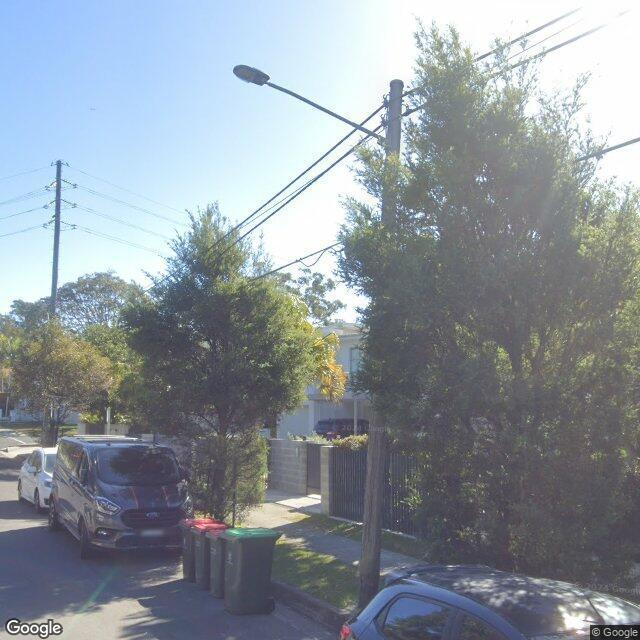HV-transmission: (43, 161, 77, 232)
streetlight: (232, 65, 386, 146)
timber-pole: (358, 78, 404, 608), (48, 160, 62, 320)
